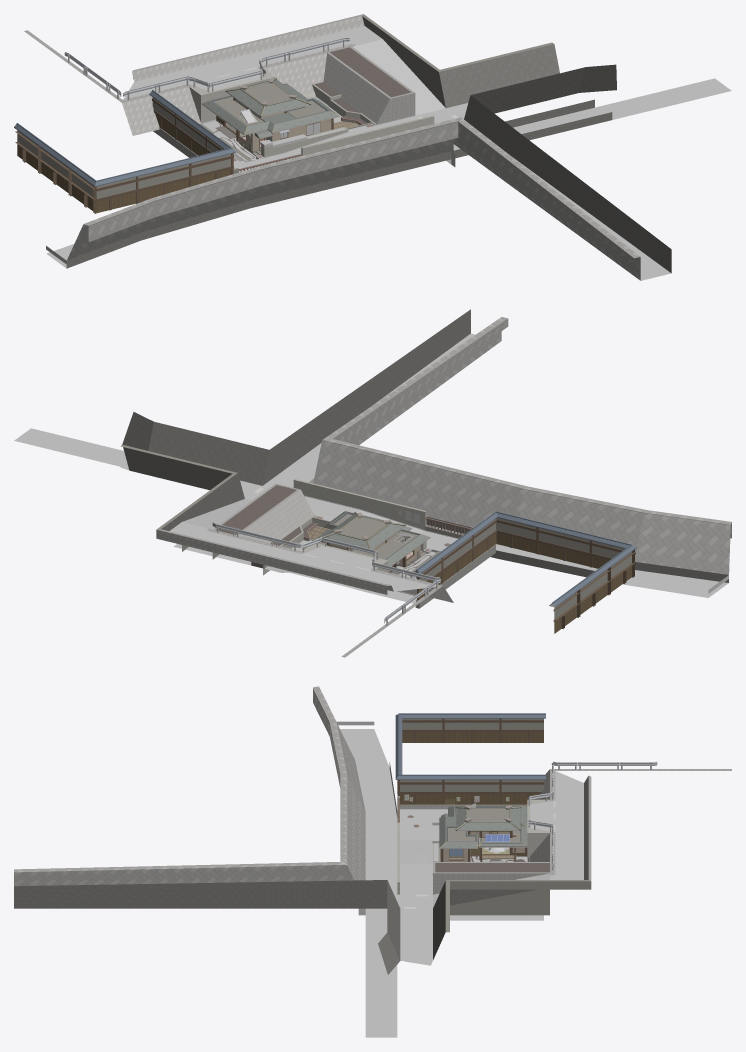
File: Stage1_1.FBX
3 views of the same model, one above another, from view 1: azimuth 30°, elevation 25°; view 2: azimuth 150°, elevation 25°; view 3: azimuth 270°, elevation 25° (orthographic). The views are drawn at different scales.
Parts seen in each view (by area): view 1: obj_wallTile01, obj_wallTile03, obj_asphalt_base01, obj_st1_texatlas_01, obj_concrete01, obj_wallTile02, obj_st1_water_01, obj_roadShoulder03, obj_woodyPatern04, obj_woodyPatern_plate02, obj_fence01, obj_ground03_A (+10 smaller); view 2: obj_wallTile01, obj_wallTile03, obj_asphalt_base01, obj_st1_water_01, obj_st1_texatlas_01, obj_concrete01, obj_fence01, obj_wallTile02, obj_woodyPatern_plate02, obj_woodyPatern04, obj_roadShoulder03, obj_ground03_A (+8 smaller); view 3: obj_wallTile03, obj_wallTile01, obj_st1_water_01, obj_concrete01, obj_asphalt_base01, obj_woodyPatern_plate02, obj_st1_texatlas_01, obj_roadShoulder03, obj_woodyPatern04, obj_ground03_A, obj_wallTile02, obj_woodyPatern04_h58 (+3 smaller).
Boxes of the visible parts, bbox=[...] form: obj_wallTile01: bbox=[24, 14, 640, 280]; obj_wallTile03: bbox=[66, 16, 671, 273]; obj_asphalt_base01: bbox=[123, 28, 667, 279]; obj_st1_texatlas_01: bbox=[14, 37, 458, 186]; obj_concrete01: bbox=[17, 14, 553, 198]; obj_wallTile02: bbox=[323, 47, 415, 124]; obj_st1_water_01: bbox=[46, 78, 731, 268]; obj_roadShoulder03: bbox=[46, 26, 670, 280]; obj_woodyPatern04: bbox=[15, 116, 260, 213]; obj_woodyPatern_plate02: bbox=[17, 117, 230, 212]; obj_fence01: bbox=[301, 84, 434, 155]; obj_ground03_A: bbox=[212, 47, 410, 158]; obj_wallTile01: bbox=[156, 317, 731, 657]; obj_wallTile03: bbox=[122, 309, 728, 582]; obj_asphalt_base01: bbox=[124, 334, 474, 590]; obj_st1_water_01: bbox=[14, 428, 728, 597]; obj_st1_texatlas_01: bbox=[212, 487, 636, 625]; obj_concrete01: bbox=[120, 444, 631, 619]; obj_fence01: bbox=[263, 479, 426, 571]; obj_wallTile02: bbox=[213, 483, 313, 543]; obj_woodyPatern_plate02: bbox=[417, 533, 631, 633]; obj_woodyPatern04: bbox=[329, 518, 635, 629]; obj_roadShoulder03: bbox=[120, 333, 728, 595]; obj_ground03_A: bbox=[215, 485, 431, 577]; obj_wallTile03: bbox=[14, 762, 536, 974]; obj_wallTile01: bbox=[14, 686, 731, 886]; obj_st1_water_01: bbox=[340, 729, 397, 1037]; obj_concrete01: bbox=[397, 718, 591, 932]; obj_asphalt_base01: bbox=[395, 771, 579, 964]; obj_woodyPatern_plate02: bbox=[400, 732, 543, 856]; obj_st1_texatlas_01: bbox=[395, 713, 657, 908]; obj_roadShoulder03: bbox=[336, 721, 583, 965]; obj_woodyPatern04: bbox=[397, 718, 543, 856]; obj_ground03_A: bbox=[435, 856, 549, 872]; obj_wallTile02: bbox=[433, 862, 549, 894]; obj_woodyPatern04_h58: bbox=[400, 780, 543, 804].
Size of the model in its own units: 101 by 7.8 by 99.56.
